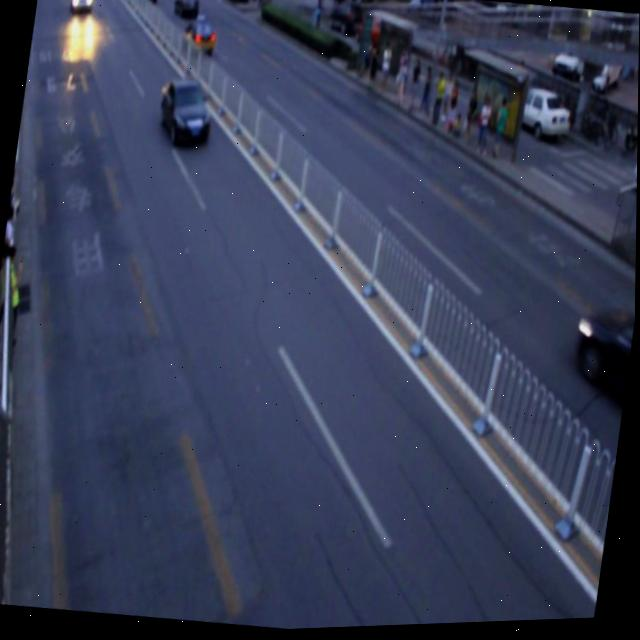car: (566, 299, 636, 432), (154, 75, 215, 150), (174, 15, 217, 62)
